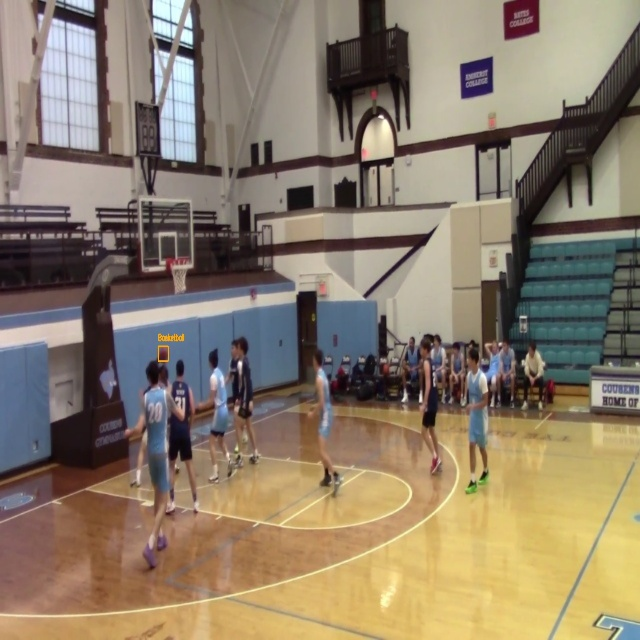Basketball: (158, 347, 168, 361)
